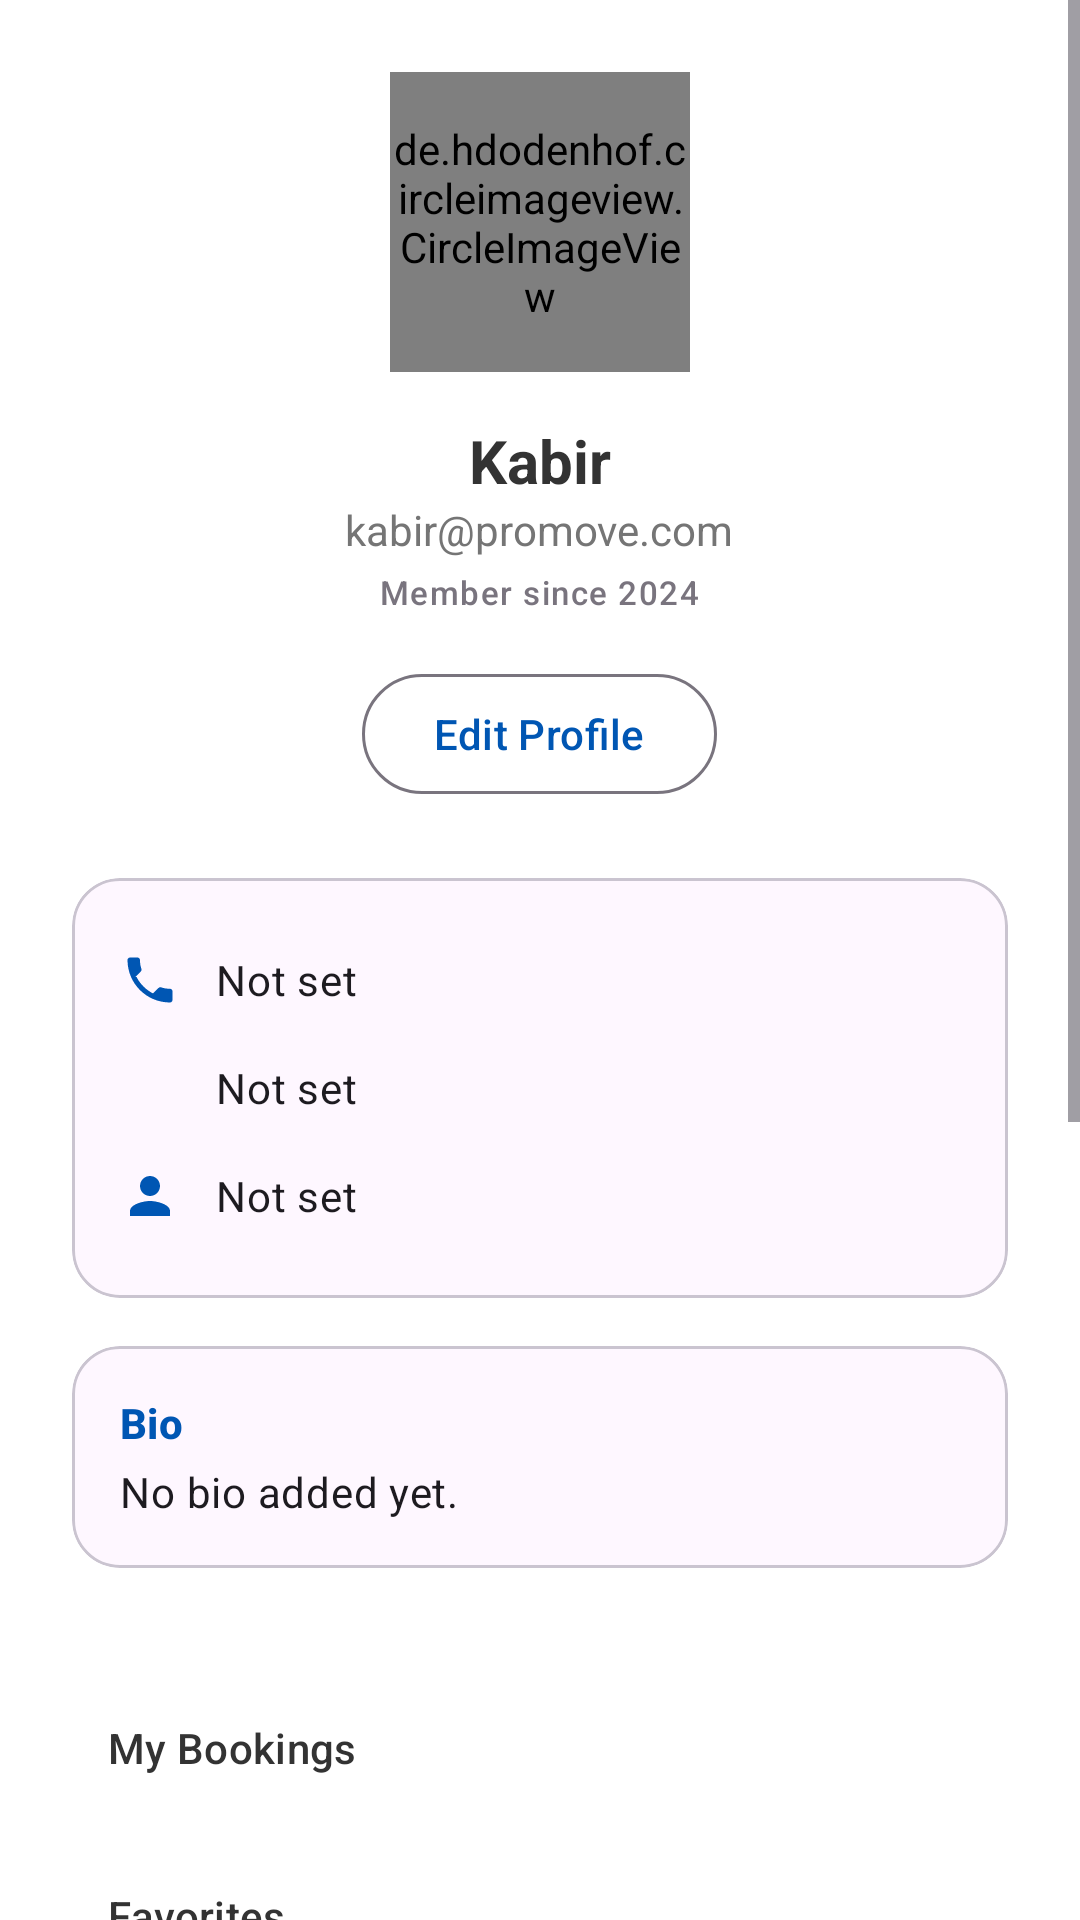

Icon click points for this 1080w x 1920h phone screenshot, format point (x, y):
Phone: point (150, 980)
